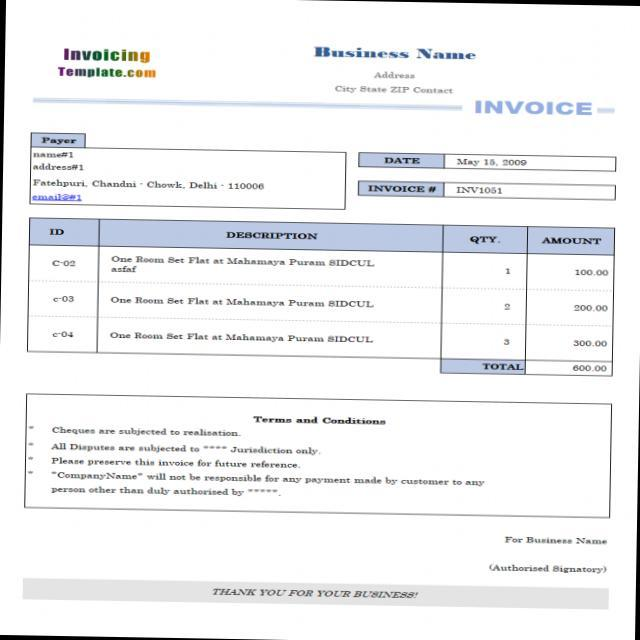customer_address: (32, 162, 87, 175)
customer_name: (31, 149, 88, 161)
invoice_date: (456, 157, 530, 167)
invoice_number: (451, 184, 506, 196)
invoice_total: (569, 361, 611, 376)
item_description: (103, 252, 385, 348)
item_quantity: (486, 260, 519, 353)
item_total_price: (554, 259, 612, 355)
supplier_address: (370, 67, 420, 83)
supplier_name: (312, 43, 481, 65)
